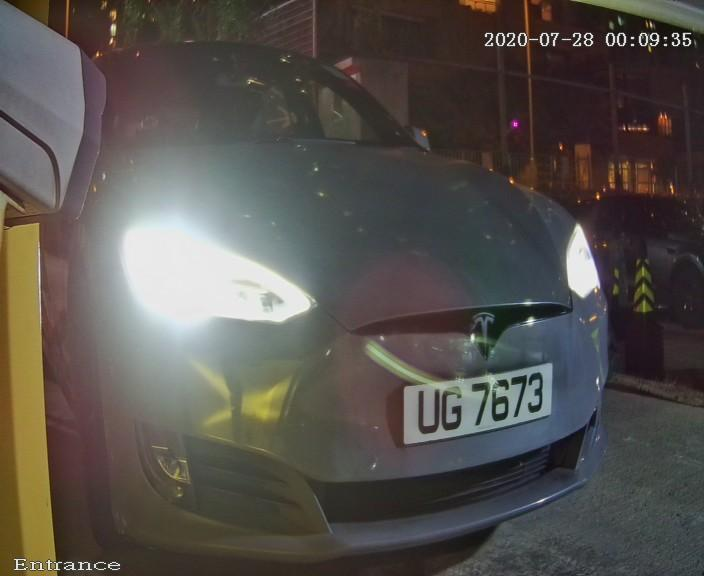privatecar: (51, 6, 629, 571)
